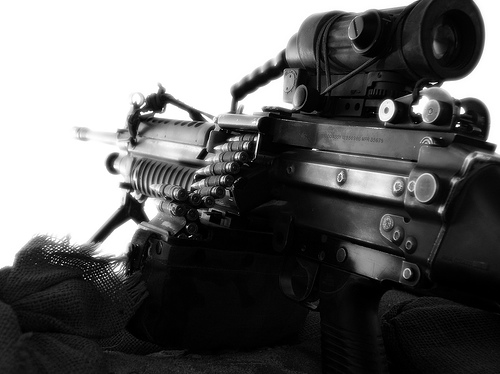rifle: (84, 6, 484, 318)
